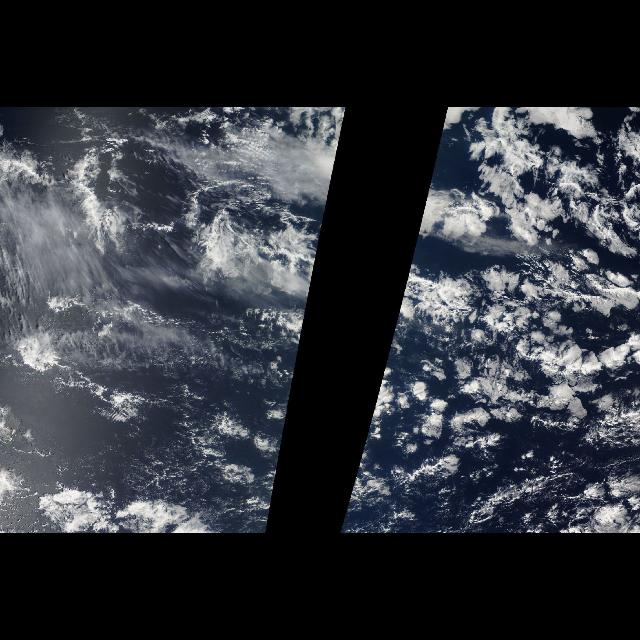Fish: (455, 460, 629, 530), (535, 411, 639, 455)
Flower: (351, 113, 637, 523), (222, 282, 312, 488)
Sugar: (27, 376, 230, 496)
